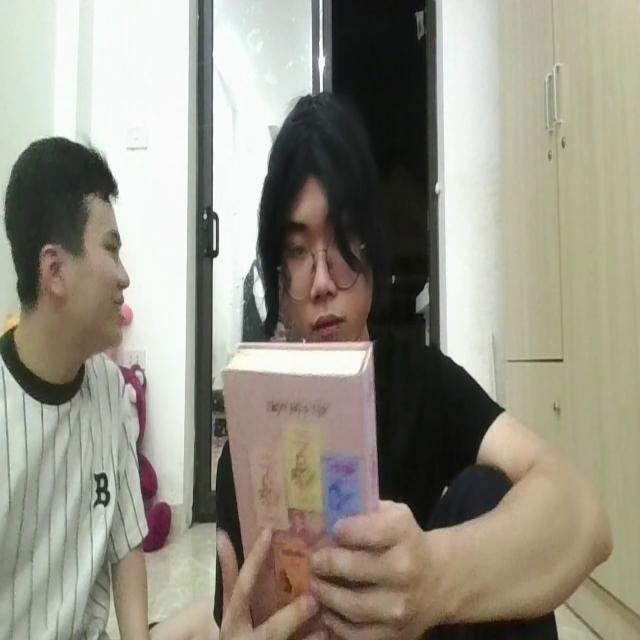book: (220, 330, 388, 640)
extra_person: (0, 130, 160, 640)
student: (213, 89, 617, 640)
